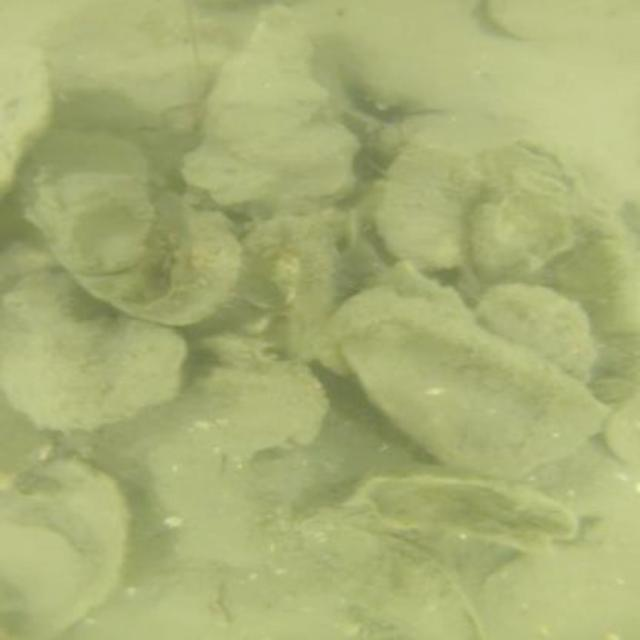Oyster-Closed: (353, 310, 604, 480), (178, 6, 355, 210), (85, 336, 335, 457), (0, 275, 188, 431), (76, 192, 243, 328), (191, 220, 345, 363), (462, 134, 600, 280), (22, 136, 157, 276), (485, 282, 602, 387), (384, 144, 476, 273)
Oyster-Open: (298, 478, 569, 547)
